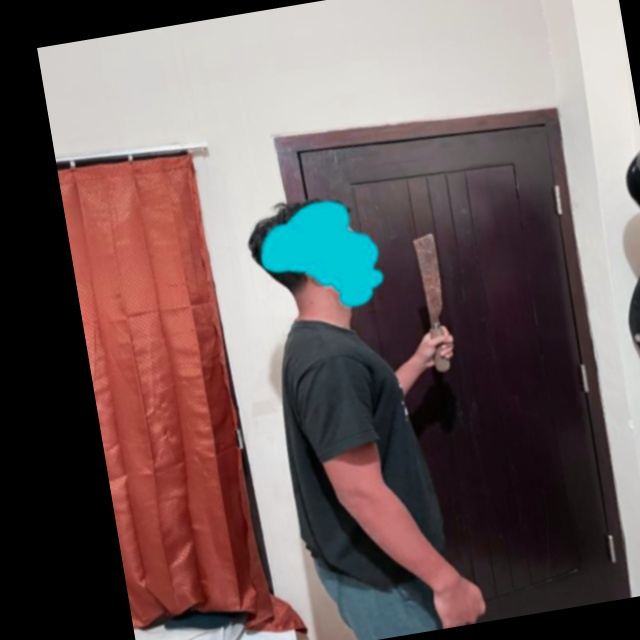Sharp-Object: (411, 231, 457, 374)
